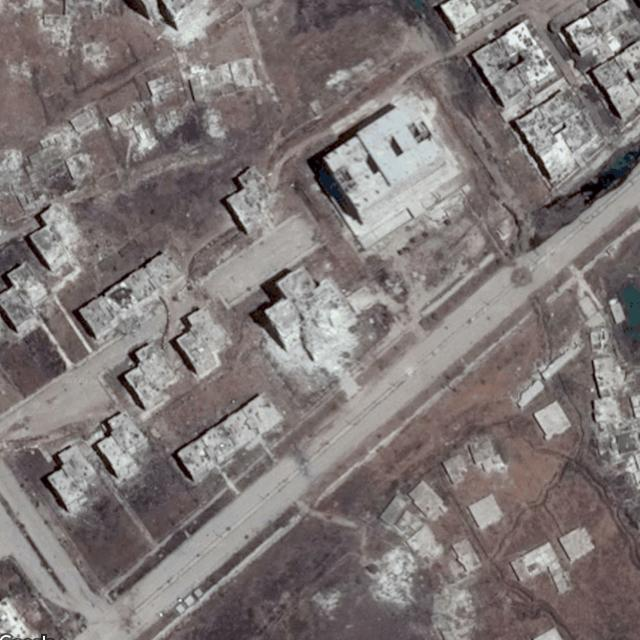damaged_building: (260, 260, 364, 391), (21, 198, 88, 272), (366, 541, 417, 603), (426, 580, 475, 640)
